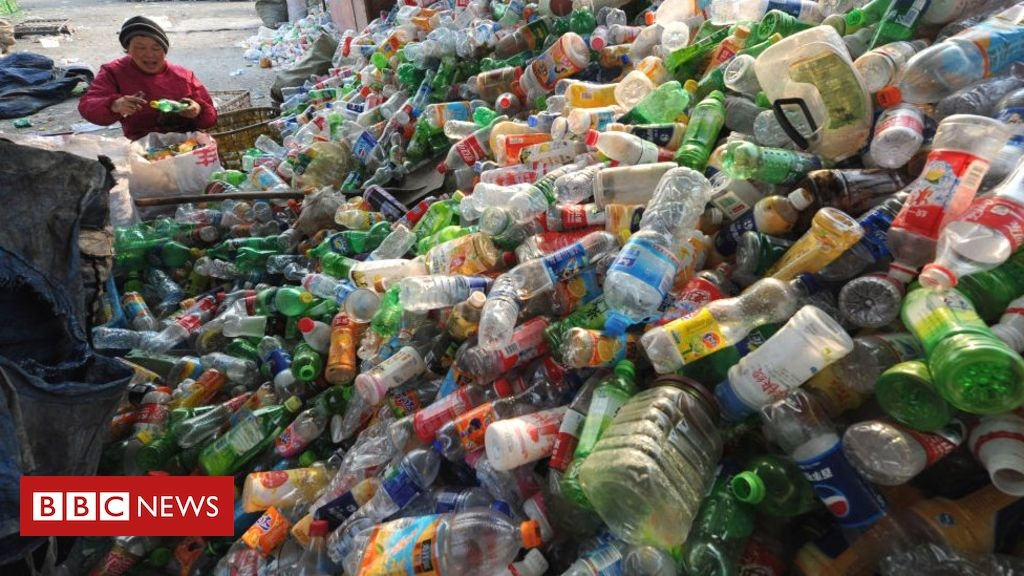plastic: (571, 372, 733, 553), (759, 392, 907, 551), (878, 105, 1006, 286), (594, 162, 724, 339), (635, 266, 824, 376), (700, 305, 859, 422), (755, 19, 877, 164), (902, 279, 1024, 417), (869, 2, 1024, 108), (327, 436, 449, 560), (340, 510, 545, 576), (844, 408, 982, 490), (751, 203, 867, 295), (699, 183, 818, 272), (503, 223, 633, 303), (195, 393, 314, 479), (482, 399, 602, 475), (724, 443, 820, 527), (502, 148, 603, 225), (500, 25, 595, 103), (959, 410, 1024, 512), (429, 111, 510, 178), (469, 264, 526, 355), (355, 339, 426, 409), (407, 224, 499, 278), (670, 87, 730, 169), (397, 269, 494, 315), (580, 125, 689, 164), (320, 302, 369, 388), (301, 217, 392, 263), (119, 235, 200, 271), (204, 231, 282, 267), (86, 320, 173, 352), (220, 310, 303, 339), (286, 340, 326, 385), (296, 315, 335, 354)
